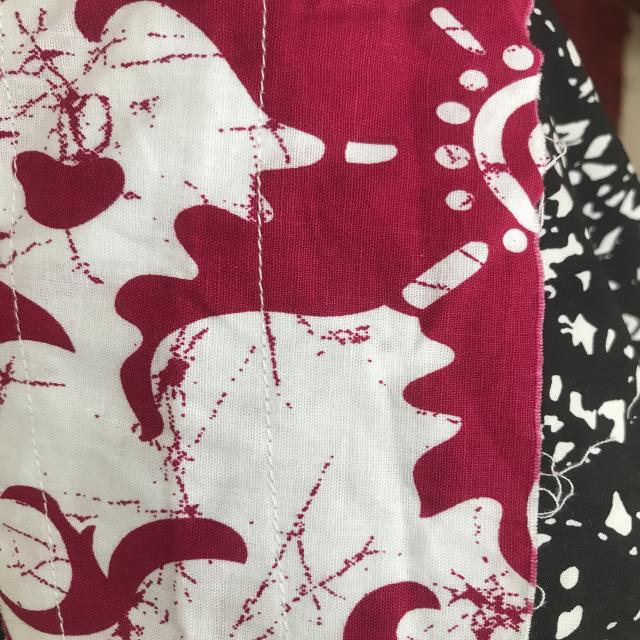good: (252, 404, 294, 508), (245, 230, 279, 302), (251, 6, 277, 96)
